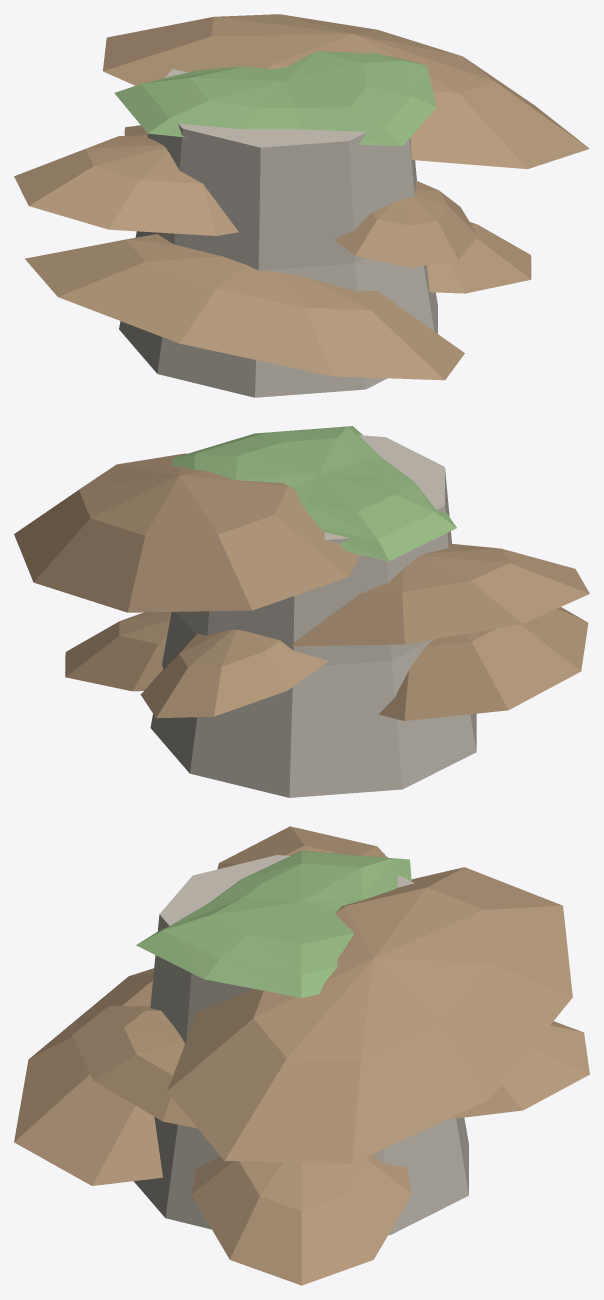
File: stump-with-fungi.glb
3 renders of one model, top to bottom at view 1: azimuth 30°, elevation 25°; view 2: azimuth 150°, elevation 25°; view 3: azimuth 270°, elevation 25°, orthographic. The views are drawn at different scales.
Parts seen in each view (by area): view 1: stump-with-fungi; view 2: stump-with-fungi; view 3: stump-with-fungi.
Part boxes in pixels (x1,y1,x2,y2): stump-with-fungi: (14,14,589,397); stump-with-fungi: (14,426,589,797); stump-with-fungi: (14,826,589,1285).
Size of the model in its own units: 1.47 by 0.6664 by 1.27.
